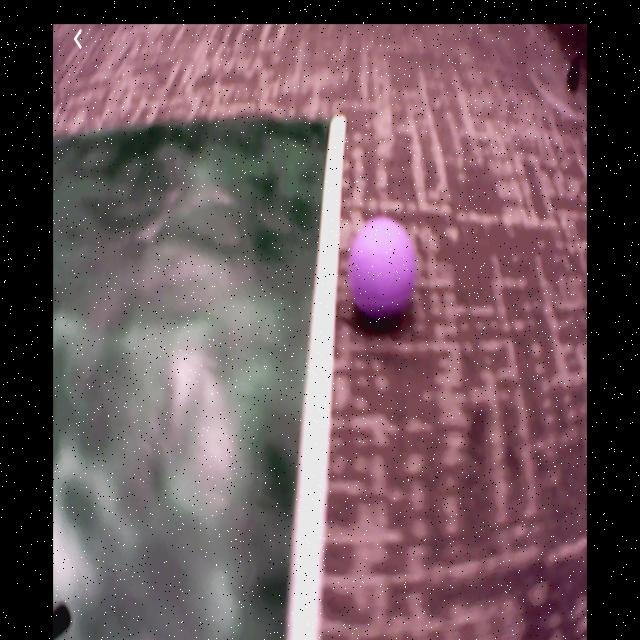ball: (349, 220, 418, 318)
